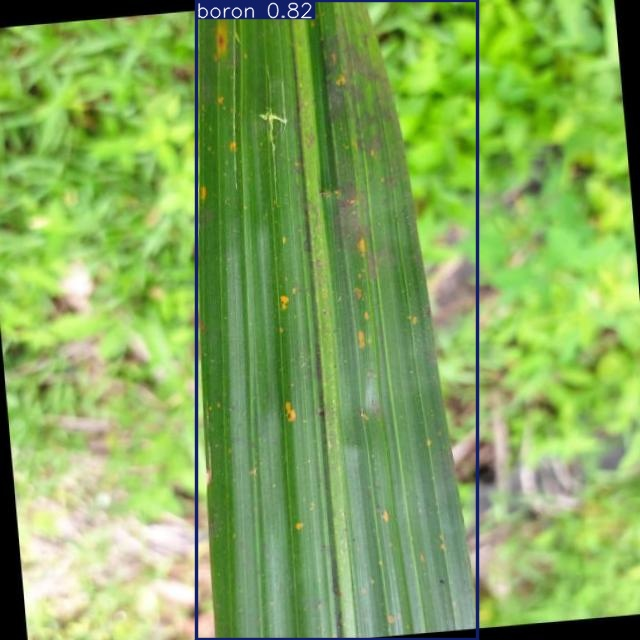nitrogen: (197, 1, 477, 640)
